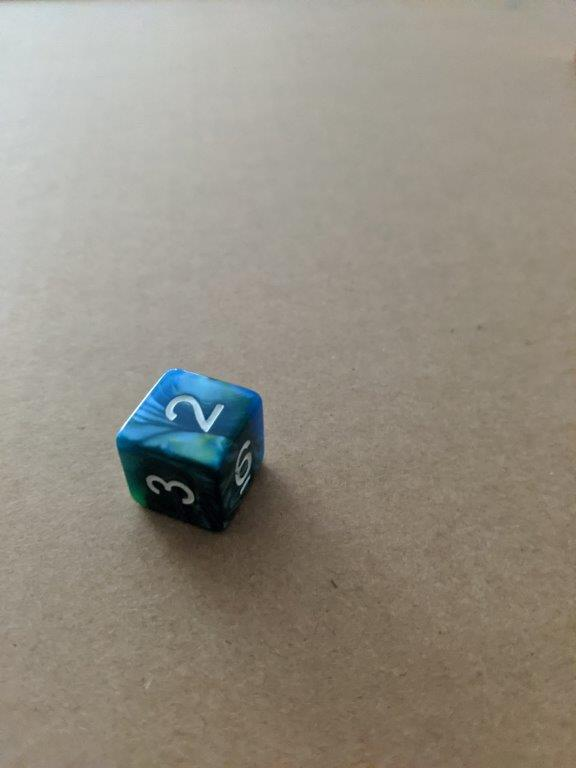d6-2: (115, 366, 264, 531)
